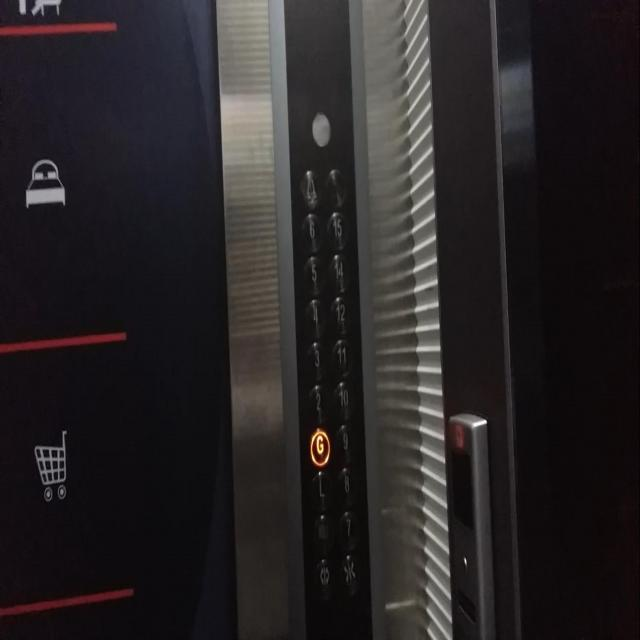10: (333, 381, 355, 421)
11: (331, 338, 353, 378)
12: (330, 296, 350, 335)
14: (328, 254, 349, 294)
15: (327, 210, 348, 252)
2: (307, 384, 328, 426)
3: (305, 340, 328, 382)
4: (303, 299, 325, 337)
5: (302, 256, 325, 295)
6: (300, 212, 322, 252)
7: (335, 509, 360, 549)
8: (336, 466, 356, 506)
9: (332, 424, 357, 464)
G: (307, 426, 330, 467)
L: (310, 469, 333, 512)
alarm: (300, 168, 322, 206)
blur: (312, 513, 333, 552)
close: (340, 554, 360, 595)
empty: (325, 168, 347, 208), (312, 112, 332, 146)
open: (312, 558, 334, 598)
